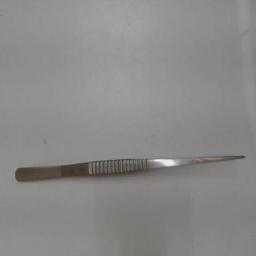DeBakey Dissector: (11, 134, 251, 196)
